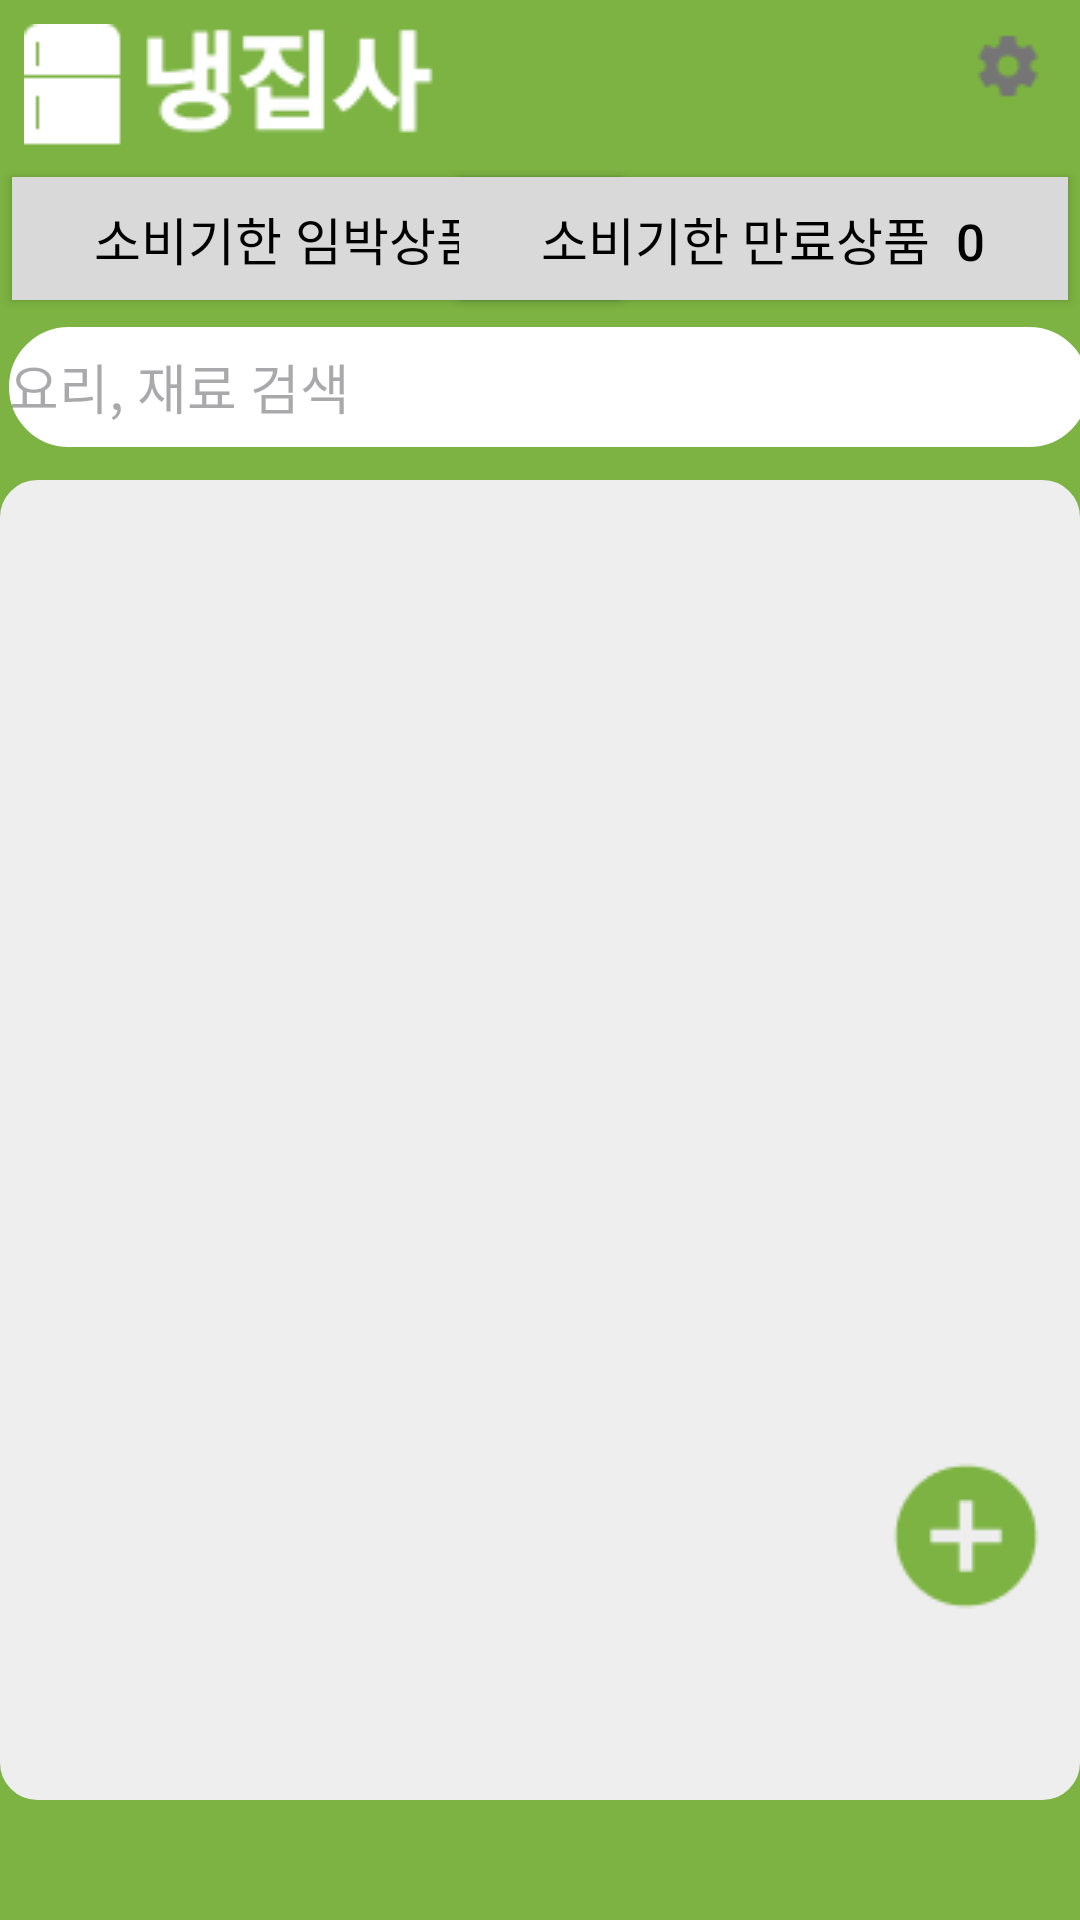

Screen size 1080×1920. Icon name, then its box in pixels as (x1,y1,x2,y2):
add circle: (894,1464,1038,1608)
setting: (979,36,1037,96)
